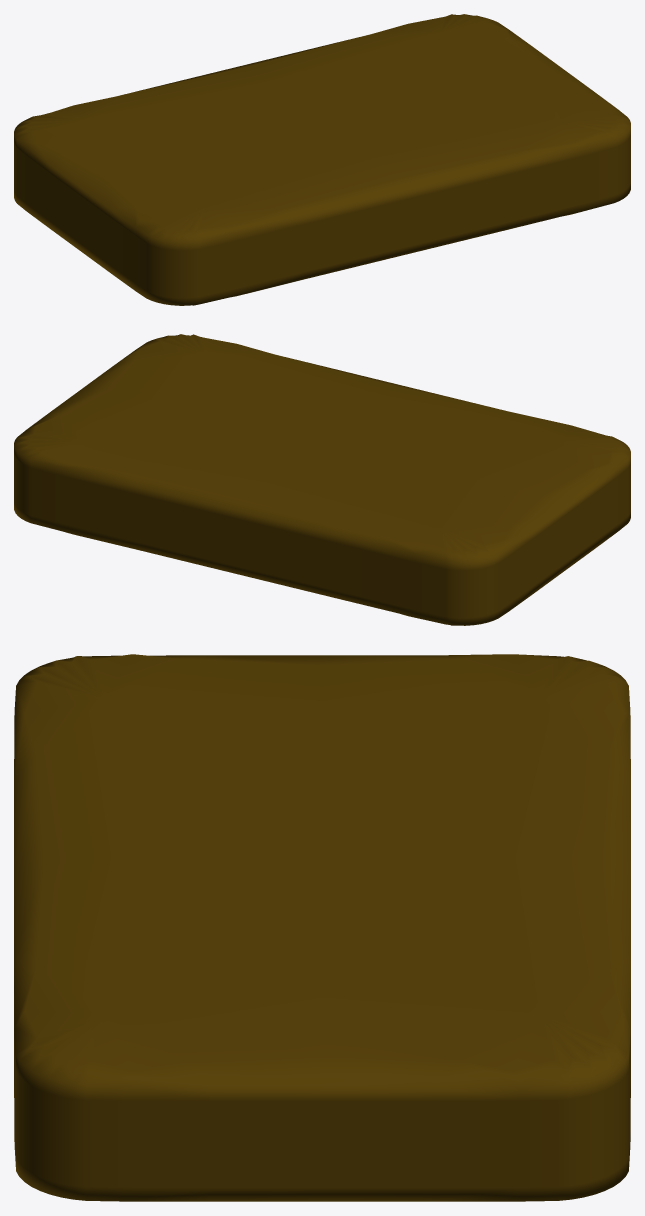
File: High Quality Brick.fbx
The picture shows the model from 3 angles, top to bottom: view 1: azimuth 30°, elevation 25°; view 2: azimuth 150°, elevation 25°; view 3: azimuth 270°, elevation 25°; orthographic projection. The views are drawn at different scales.
Parts seen in each view (by area): view 1: pCube4; view 2: pCube4; view 3: pCube4.
Part boxes in pixels (box(x1,y1,x2,y2)): pCube4: box(14, 14, 630, 305); pCube4: box(14, 334, 630, 625); pCube4: box(14, 654, 630, 1201).
Size of the model in its own units: 2.48 by 0.3794 by 1.5.
